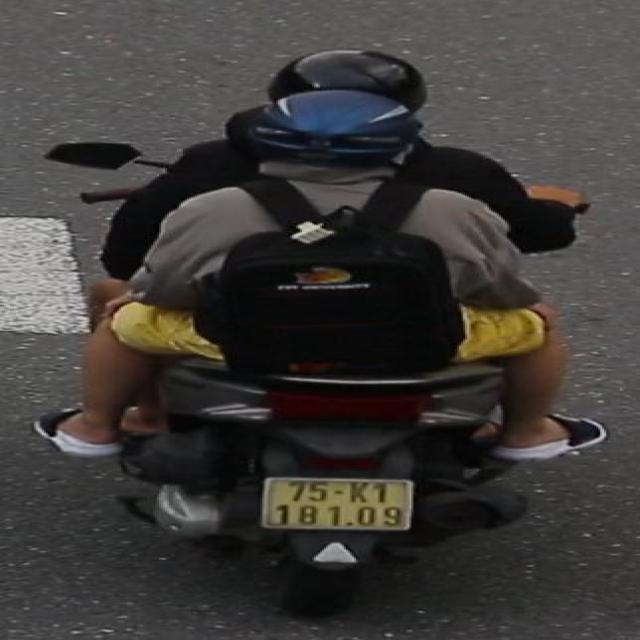LP: (255, 472, 422, 534)
helmet: (215, 87, 441, 194), (258, 46, 440, 112)
